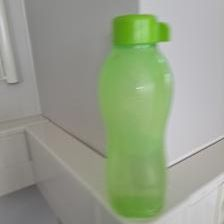bottle: (99, 9, 177, 220)
